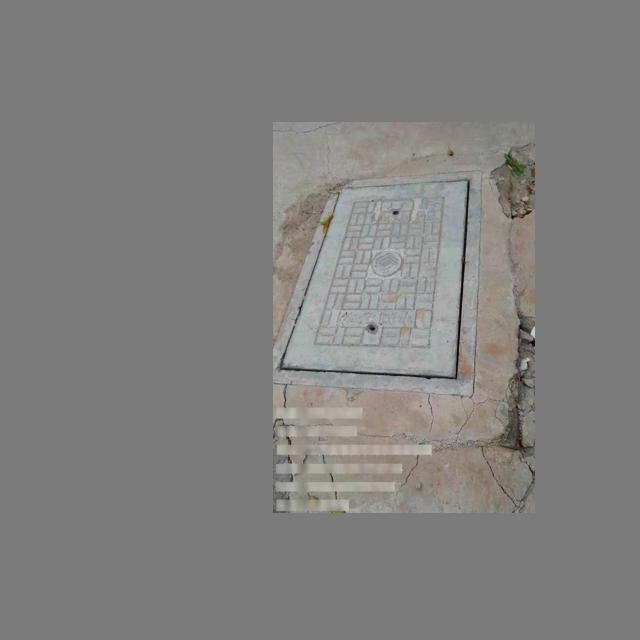good: (273, 170, 481, 395)
